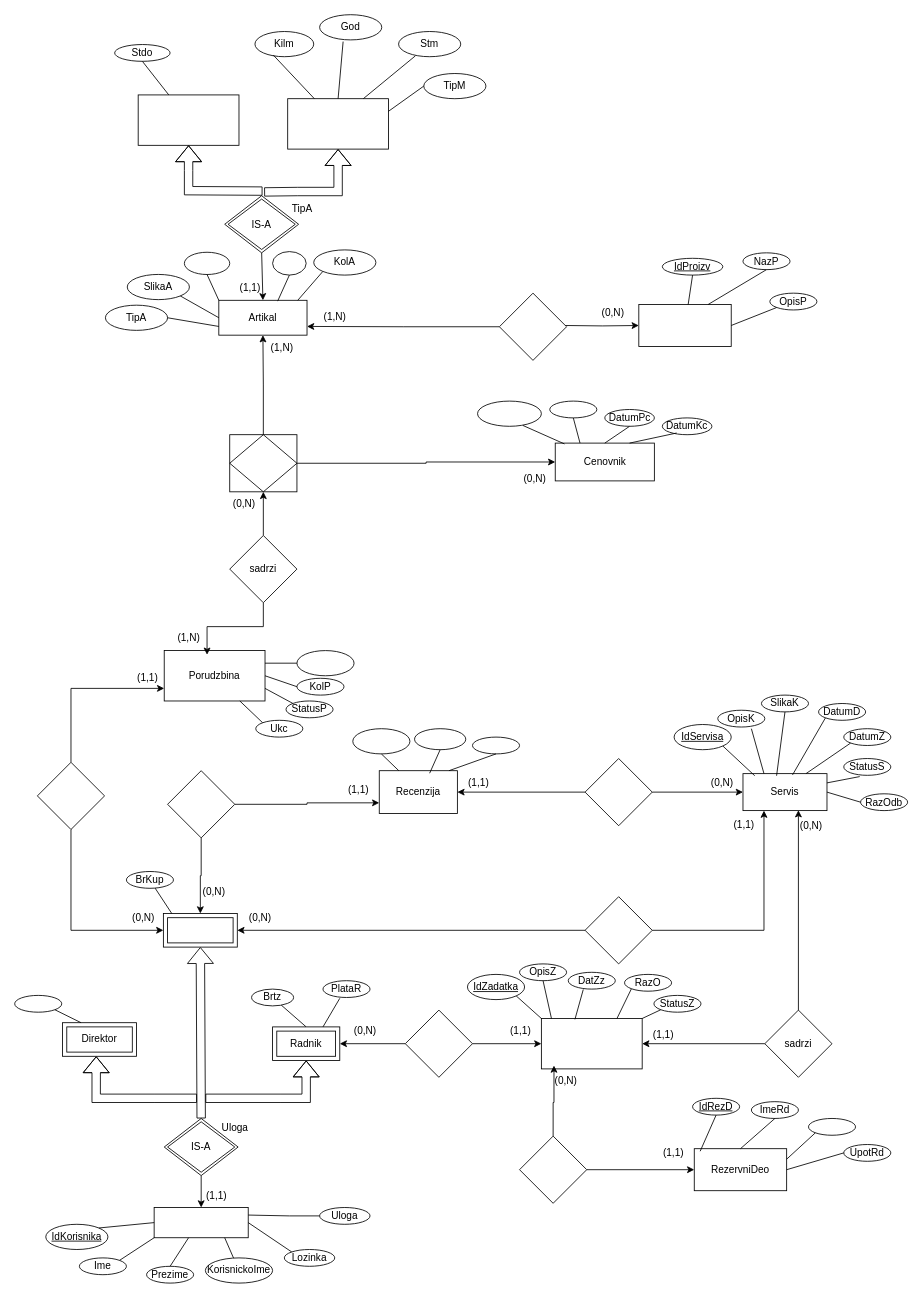
This 922x1298 diagram has some shape labels left out. The shapes that lost their labels are listed below. From the top down, each one's box as (x1, y1, x2, y2) in pixels, then its label:
(137, 94, 239, 145): DodatnaOprema
(287, 98, 388, 149): Motocikl
(184, 251, 230, 275): IdArtikla
(272, 251, 306, 275): NazA
(499, 292, 567, 360): proizvodi
(638, 304, 731, 346): Proizvodjac
(477, 400, 541, 426): IdCenovnika
(549, 400, 597, 418): Cena
(229, 434, 297, 492): ima
(296, 650, 354, 676): Idpor
(352, 728, 410, 754): IdRec
(414, 728, 466, 750): Kom
(472, 736, 520, 754): Ocena
(37, 761, 105, 830): narucuje
(167, 770, 235, 838): ostavlja
(584, 758, 652, 826): ocenjuje
(163, 913, 237, 947): Klijent
(584, 896, 652, 964): zahteva
(14, 995, 62, 1012): PlataD
(404, 1009, 472, 1077): zavrsava
(541, 1018, 642, 1069): Zadatak
(808, 1118, 856, 1135): KolRd
(519, 1135, 587, 1203): koristi
(153, 1207, 248, 1238): Korisnik
